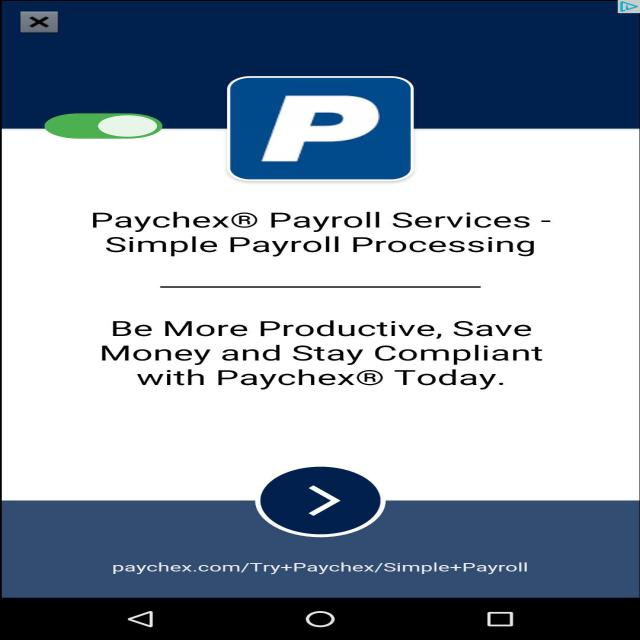social proof: (39, 104, 168, 150)
